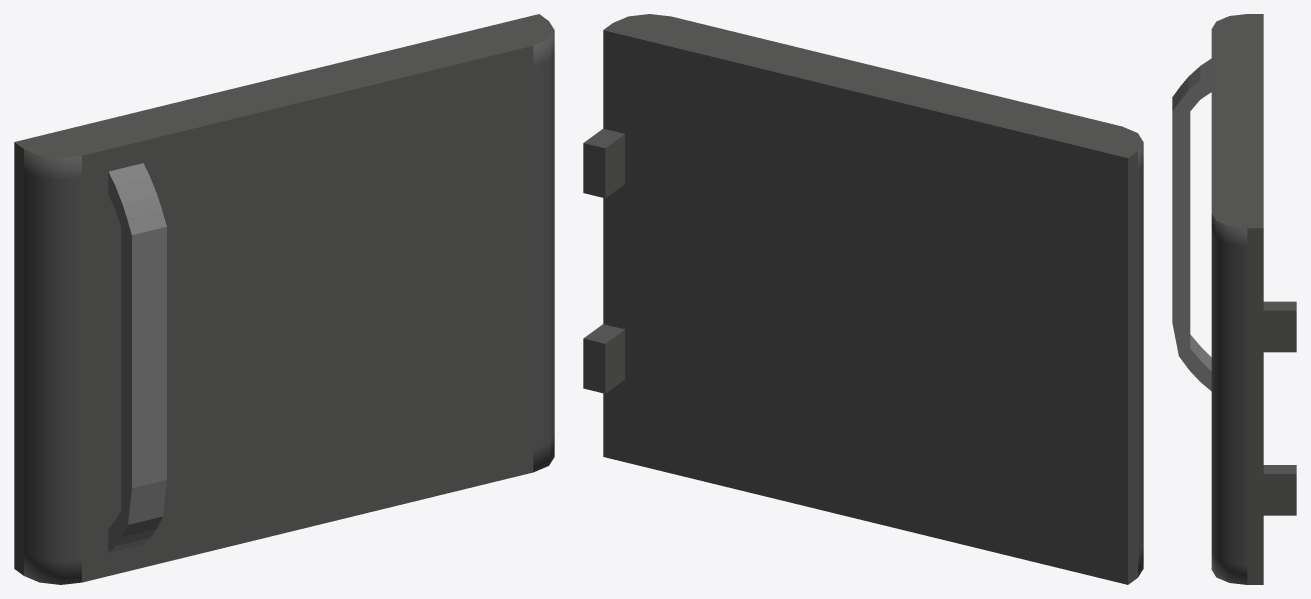
Rendered from Freezer_Door.fbx.
3 views of the same model, side by side, from view 1: azimuth 30°, elevation 25°; view 2: azimuth 150°, elevation 25°; view 3: azimuth 270°, elevation 25° (orthographic). The views are drawn at different scales.
Parts seen in each view (by area): view 1: Cube.038; view 2: Cube.038; view 3: Cube.038.
Boxes of the visible parts, bbox=[...] form: Cube.038: bbox=[14, 14, 554, 584]; Cube.038: bbox=[583, 14, 1143, 584]; Cube.038: bbox=[1172, 14, 1296, 584].
Bounding box in the file's own units: 123 × 95.37 × 30.07.
